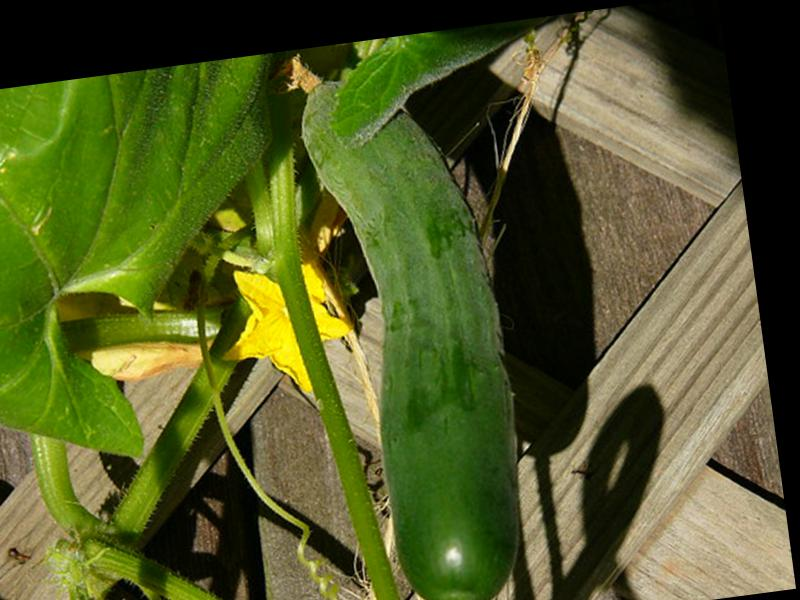Cucumber: (291, 33, 540, 600)
